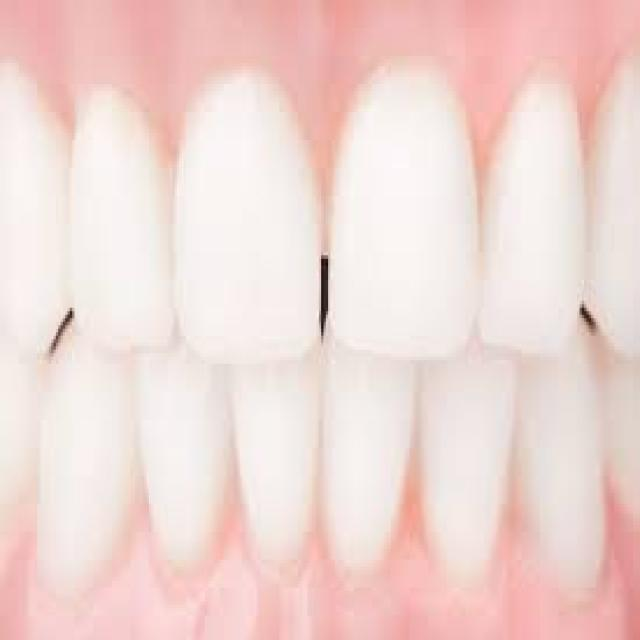tooth: (179, 45, 324, 357), (340, 56, 482, 353), (68, 84, 174, 360), (491, 59, 582, 350), (419, 360, 507, 584), (135, 367, 223, 588), (5, 63, 72, 350), (46, 353, 126, 591), (326, 339, 407, 574), (519, 357, 600, 584), (235, 364, 314, 566), (591, 56, 640, 353), (2, 356, 44, 594), (598, 360, 640, 546)
